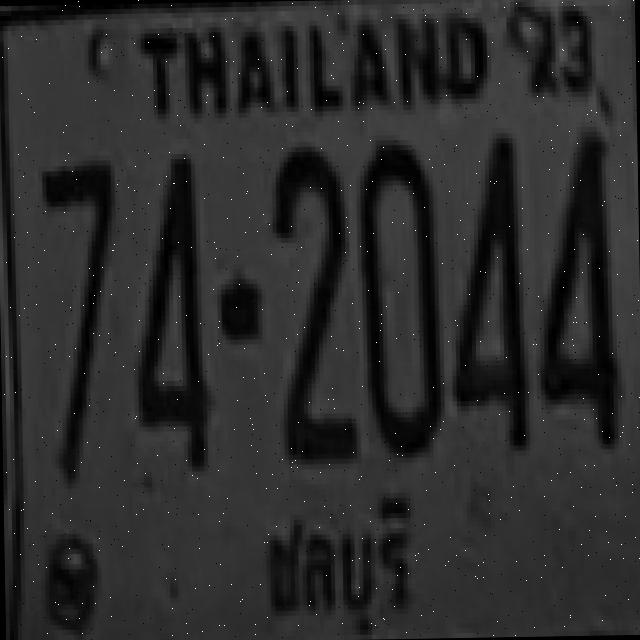4: (532, 126, 618, 445), (448, 130, 526, 449), (130, 160, 208, 470)
7: (40, 157, 116, 345)
Chonburi: (249, 487, 425, 640)
